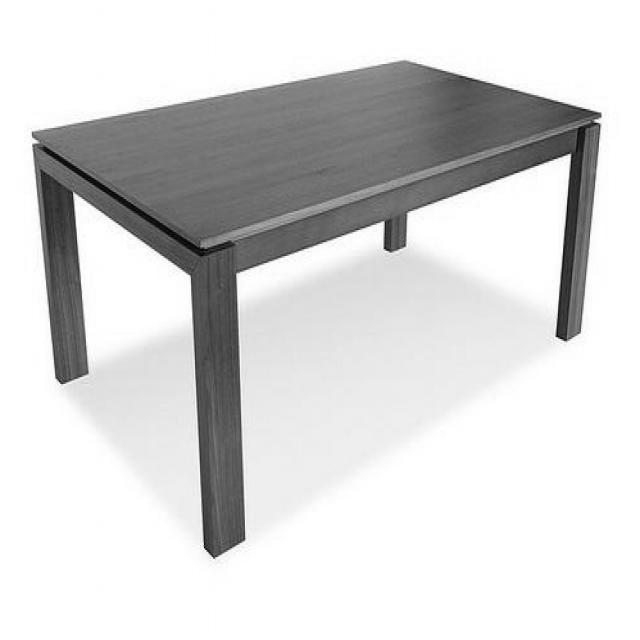table: (32, 61, 602, 560)
